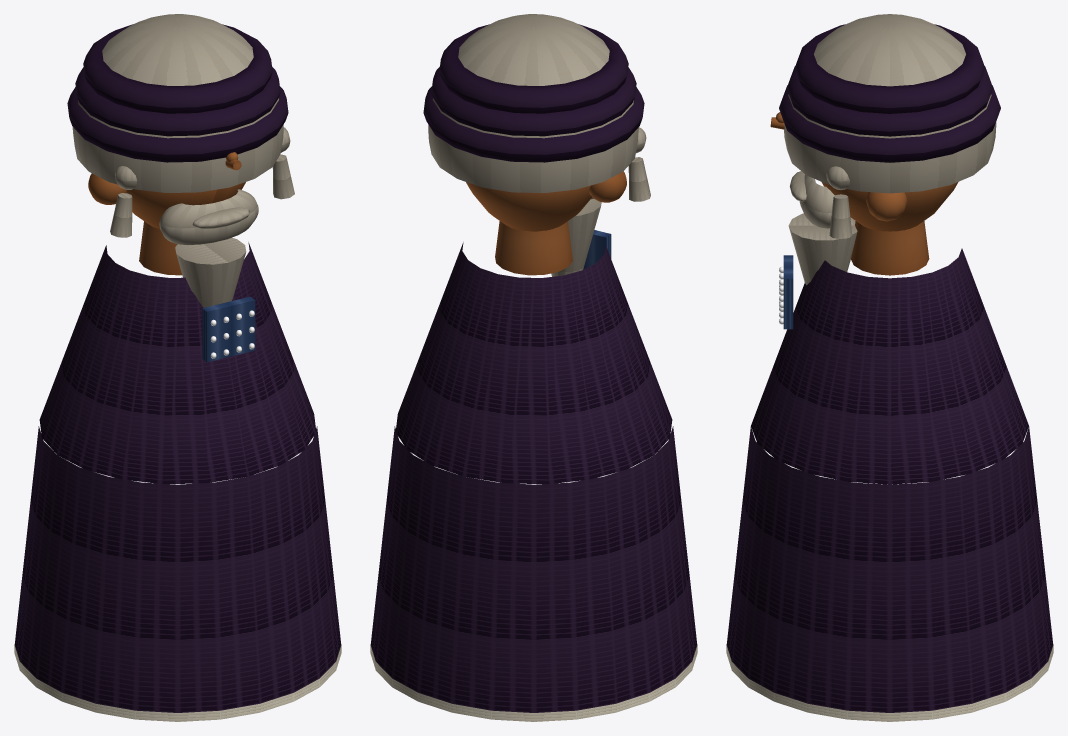
Rendered from nicodemus.glb.
The picture shows the model from 3 angles, left to right: view 1: azimuth 30°, elevation 25°; view 2: azimuth 150°, elevation 25°; view 3: azimuth 270°, elevation 25°; orthographic projection.
Parts seen in each view (by area): view 1: Character_nicodemus, head; view 2: Character_nicodemus, head; view 3: Character_nicodemus, head.
Part boxes in pixels (box(x1,y1,x2,y2)): Character_nicodemus: box(14, 14, 341, 721); head: box(126, 182, 245, 229); Character_nicodemus: box(370, 14, 697, 721); head: box(466, 182, 591, 231); Character_nicodemus: box(726, 14, 1053, 721); head: box(821, 182, 958, 231).
Bounding box in the file's own units: 0.8486 × 1.8 × 0.8486.
Materials: 11 (6 with a texture image).
